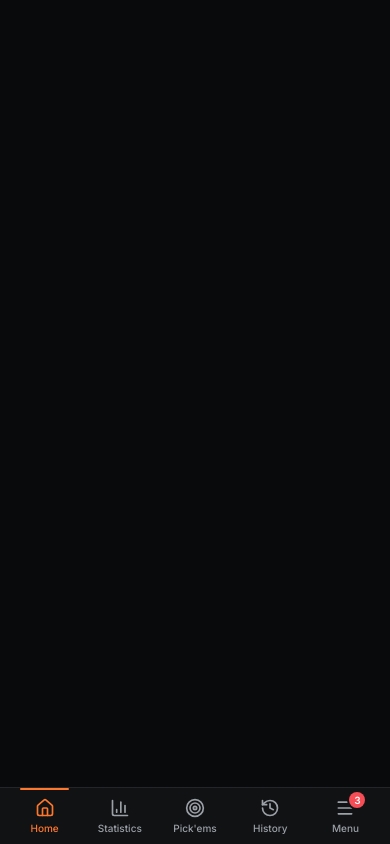
MobileTabBar › keeps the newsletter from a member who is not approved
What coordinates should you click on to do the following:
click the button "3 Menu"
I would click on:
 (345, 816)
Its box is [309,788,382,843].
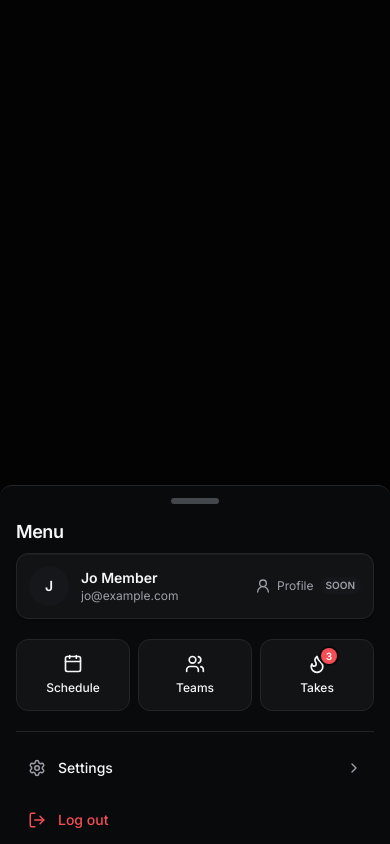
Check: the dialog is shown, box [0,485,389,843]
